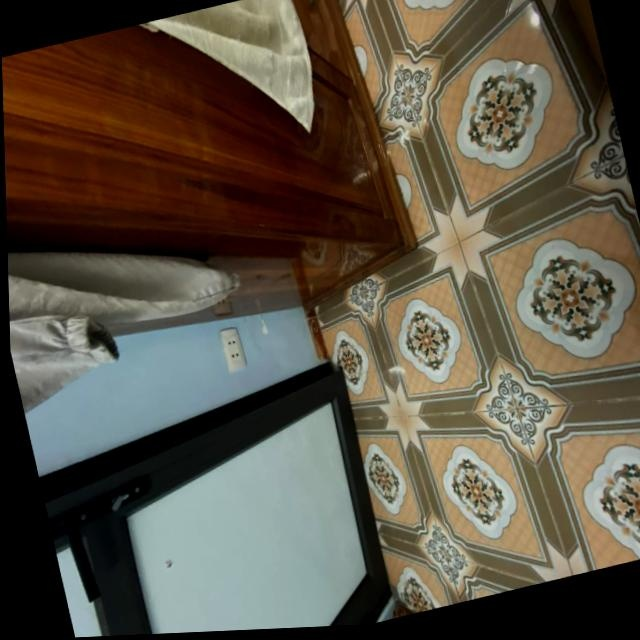outlet: (218, 325, 248, 372)
